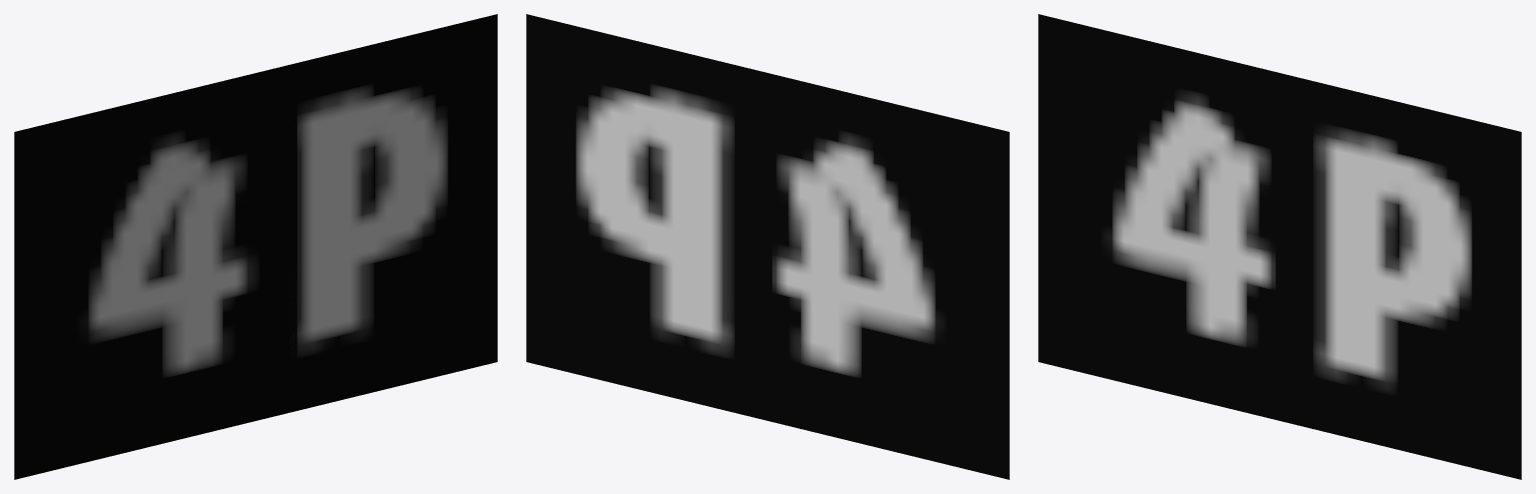
3 views of the same model, side by side, from view 1: azimuth 30°, elevation 25°; view 2: azimuth 150°, elevation 25°; view 3: azimuth 330°, elevation 25° (orthographic).
Parts seen in each view (by area): view 1: Joint_0_Object_0; view 2: Joint_0_Object_0; view 3: Joint_0_Object_0.
Part boxes in pixels (left/top/right/bottom): Joint_0_Object_0: left=14, top=14, right=497, bottom=479; Joint_0_Object_0: left=526, top=14, right=1009, bottom=479; Joint_0_Object_0: left=1038, top=14, right=1521, bottom=479.
Size of the model in its own units: 26.39 by 18.14 by 0.
Materials: 1 (1 with a texture image).
